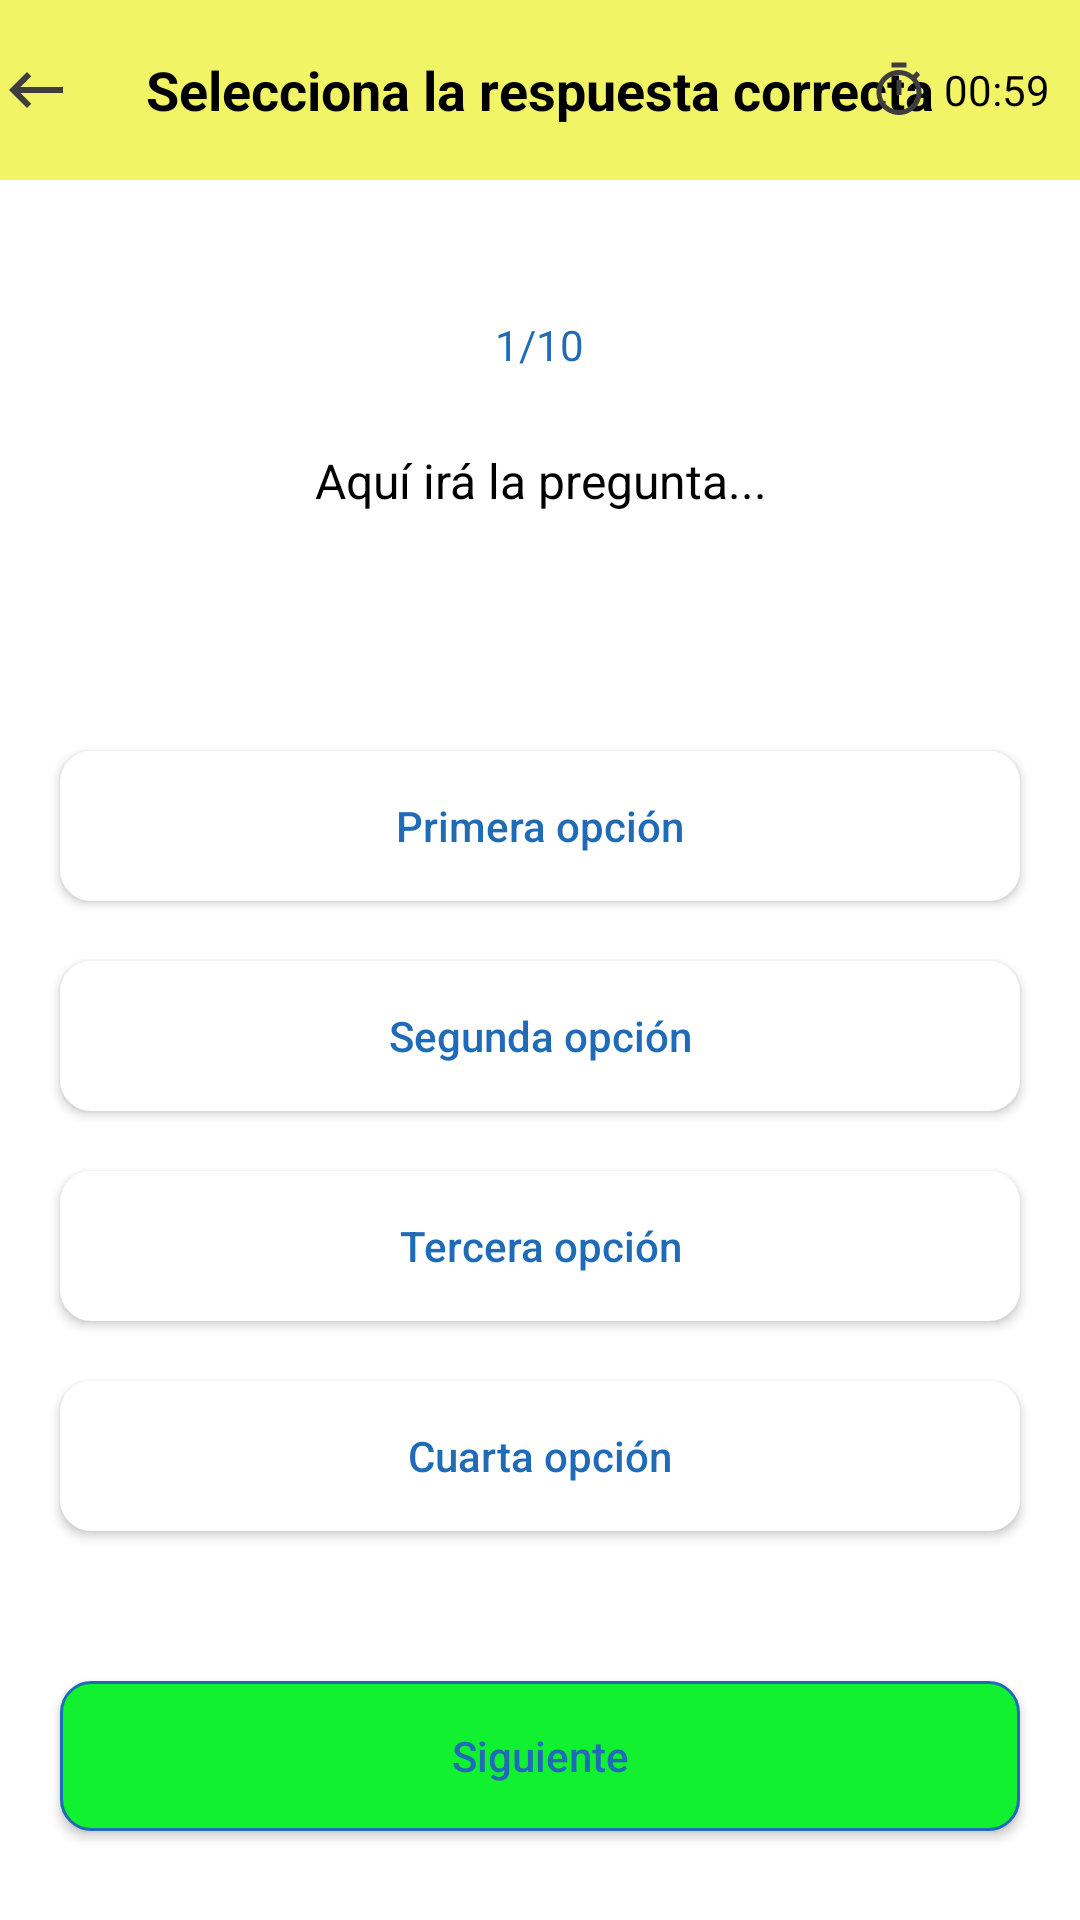

Icon bounding boxes for this 1080px x 1920px phone screenshot, format (x1, y1, x2, y2):
back: (9, 72, 63, 108)
